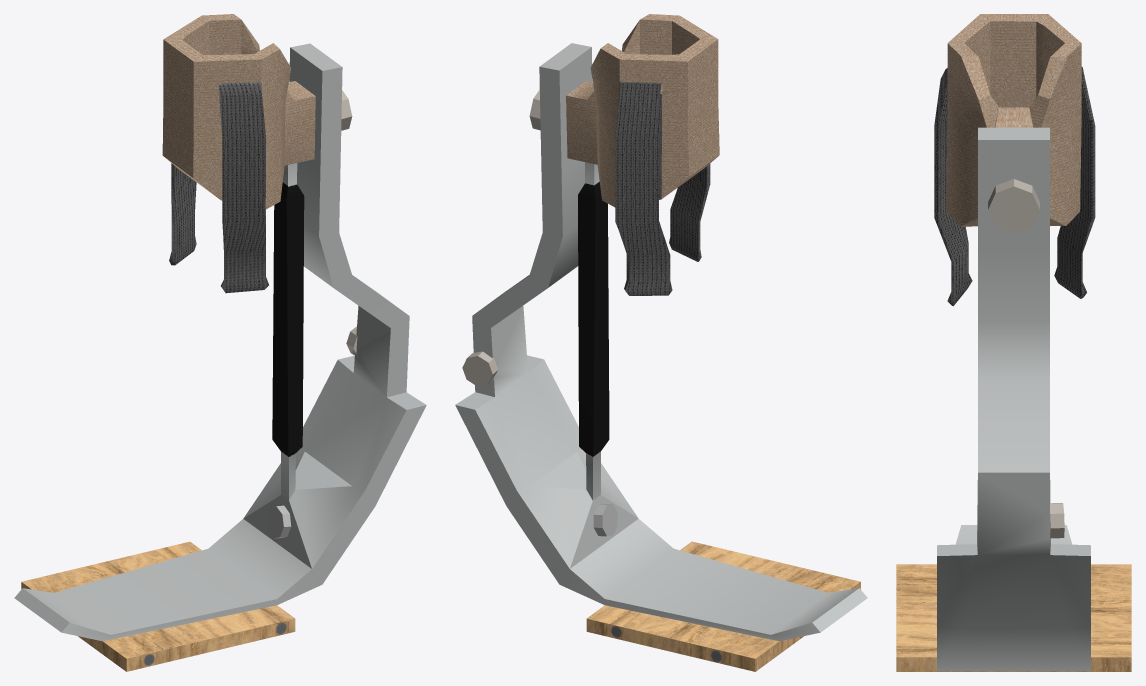
Rendered from prototype.fbx.
3 views of the same model, side by side, from view 1: azimuth 30°, elevation 25°; view 2: azimuth 150°, elevation 25°; view 3: azimuth 270°, elevation 25° (orthographic). The views are drawn at different scales.
Parts seen in each view (by area): view 1: pCube3; view 2: pCube3; view 3: pCube3.
Part boxes in pixels (<box>): pCube3: <box>14,14,426,671</box>; pCube3: <box>455,14,867,671</box>; pCube3: <box>896,14,1131,671</box>.
Bounding box in the file's own units: 17.84 × 9.04 × 26.43.
Materials: 1 (1 with a texture image).
